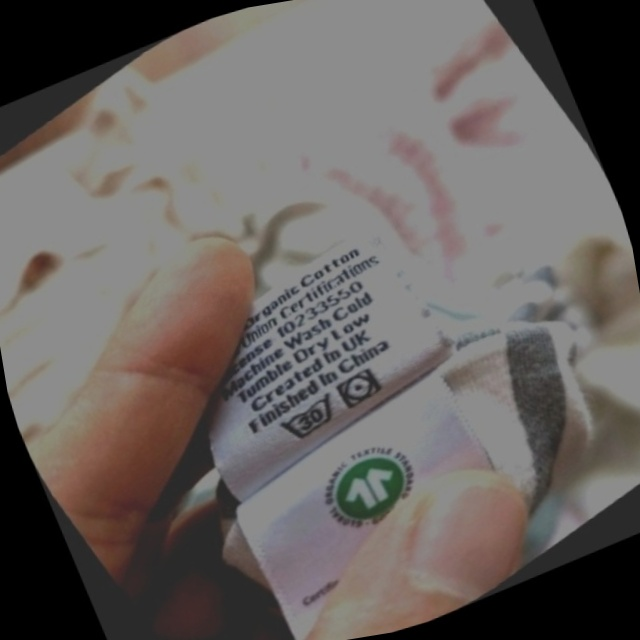30C: (262, 380, 356, 458)
tumble_dry_low: (324, 355, 395, 422)
